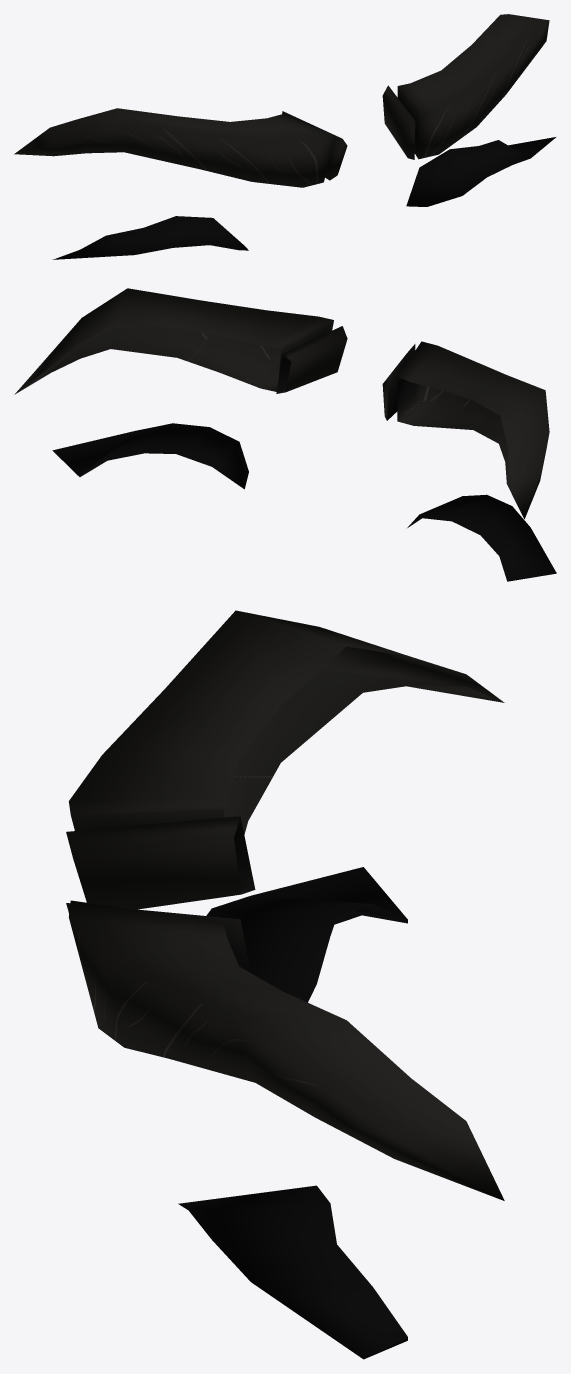
Rendered from brous8.fbx.
3 views of the same model, one above another, from view 1: azimuth 30°, elevation 25°; view 2: azimuth 150°, elevation 25°; view 3: azimuth 270°, elevation 25° (orthographic). The views are drawn at different scales.
Visible parts, largest first — view 1: brous8; view 2: brous8; view 3: brous8.
Part boxes in pixels (x1,y1,x2,y2): brous8: [14, 14, 555, 259]; brous8: [14, 288, 556, 581]; brous8: [66, 610, 504, 1359].
Size of the model in its own units: 11.27 by 3.41 by 4.2.
